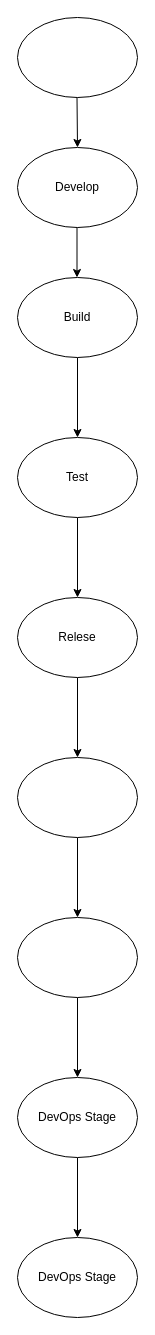
This 155x1335 diagram has some shape labels left out. Each missing label, with the centre of its shape:
Deploy: pixel 77 797
Operate: pixel 77 957
Plan: pixel 77 57
